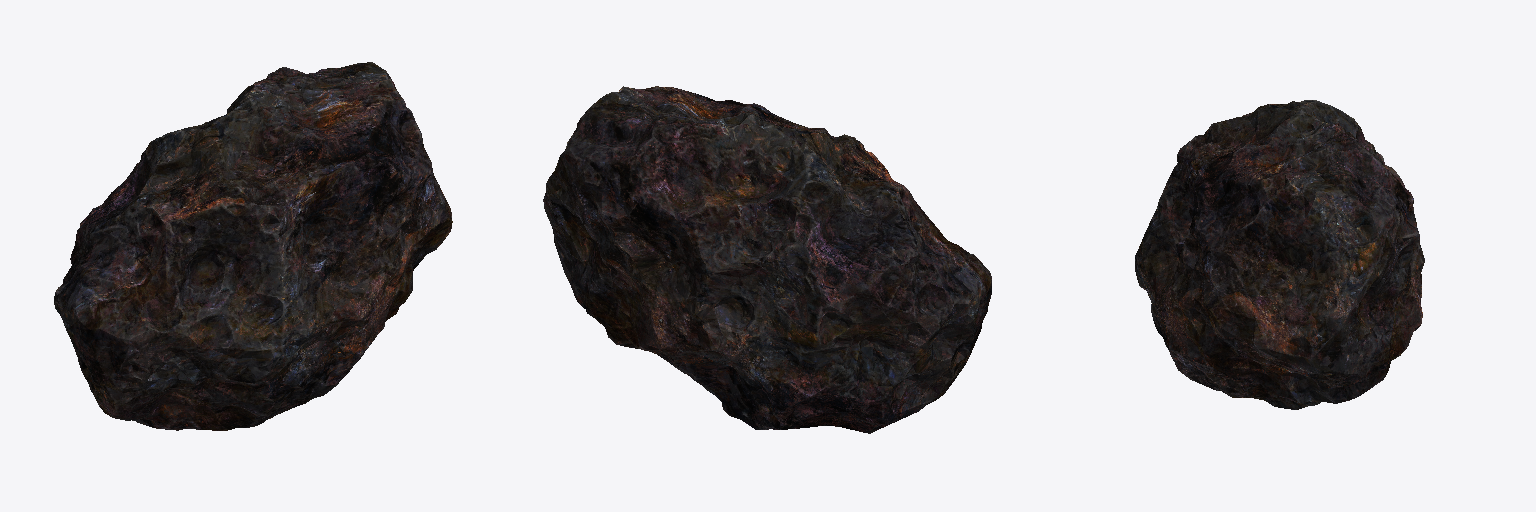
3 renders of one model, left to right at view 1: azimuth 30°, elevation 25°; view 2: azimuth 150°, elevation 25°; view 3: azimuth 270°, elevation 25°, orthographic.
Parts seen in each view (by area): view 1: asteroid1.003; view 2: asteroid1.003; view 3: asteroid1.003.
Part boxes in pixels (x1,y1,x2,y2): asteroid1.003: (54, 62, 452, 430); asteroid1.003: (543, 86, 991, 433); asteroid1.003: (1135, 100, 1424, 409).
Size of the model in its own units: 3.62 by 2.58 by 2.29.
Materials: 1 (1 with a texture image).